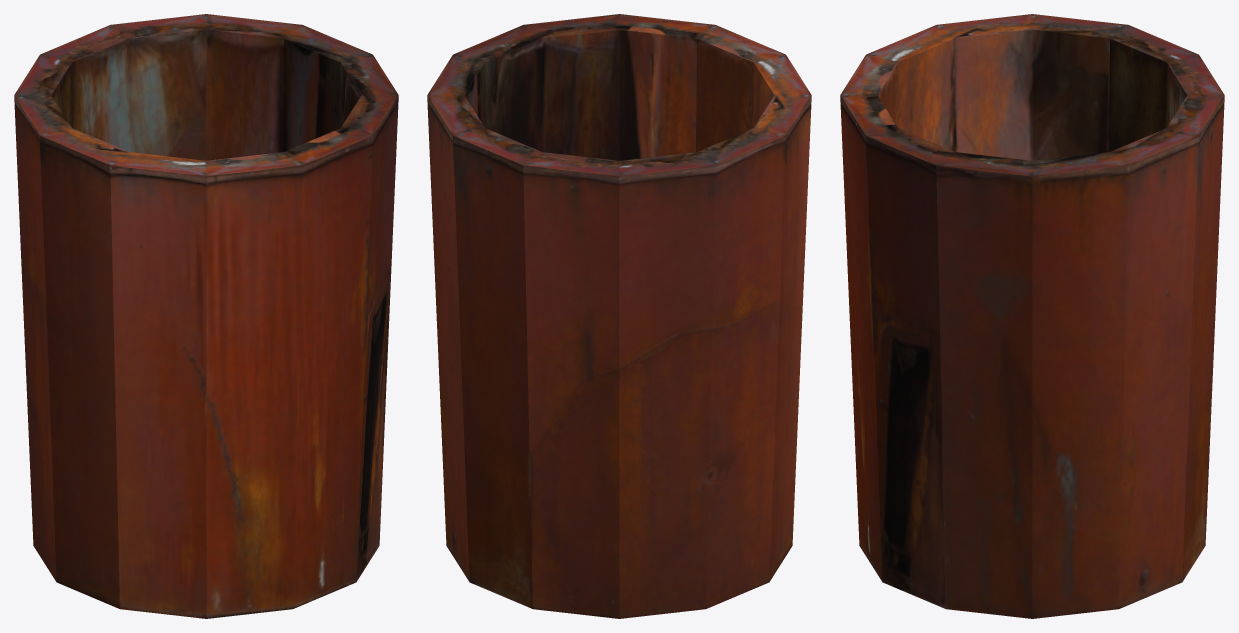
File: ArrayVectorProps.glb
The picture shows the model from 3 angles, left to right: view 1: azimuth 30°, elevation 25°; view 2: azimuth 150°, elevation 25°; view 3: azimuth 270°, elevation 25°; orthographic projection.
Visible parts, largest first — view 1: can; view 2: can; view 3: can.
Boxes of the visible parts, x1,y1,x2,y2 form: can: (14, 14, 398, 618); can: (427, 14, 811, 618); can: (840, 14, 1224, 618).
Size of what is drawn, in the model's own units: 0.6216 by 0.8035 by 0.6216.
1 material, 1 textured.
